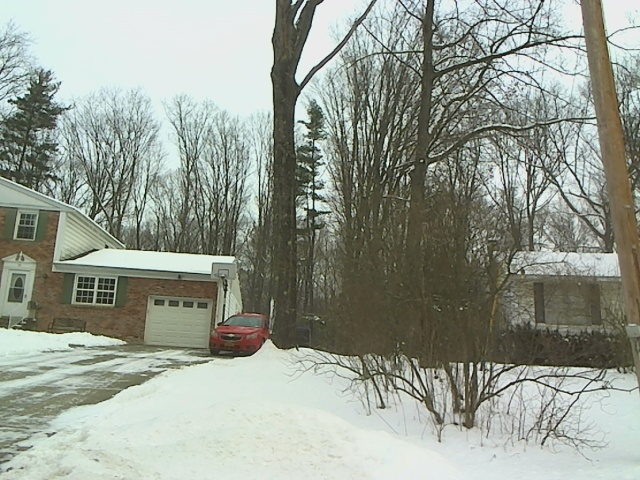Ploughed: (3, 345, 208, 419)
